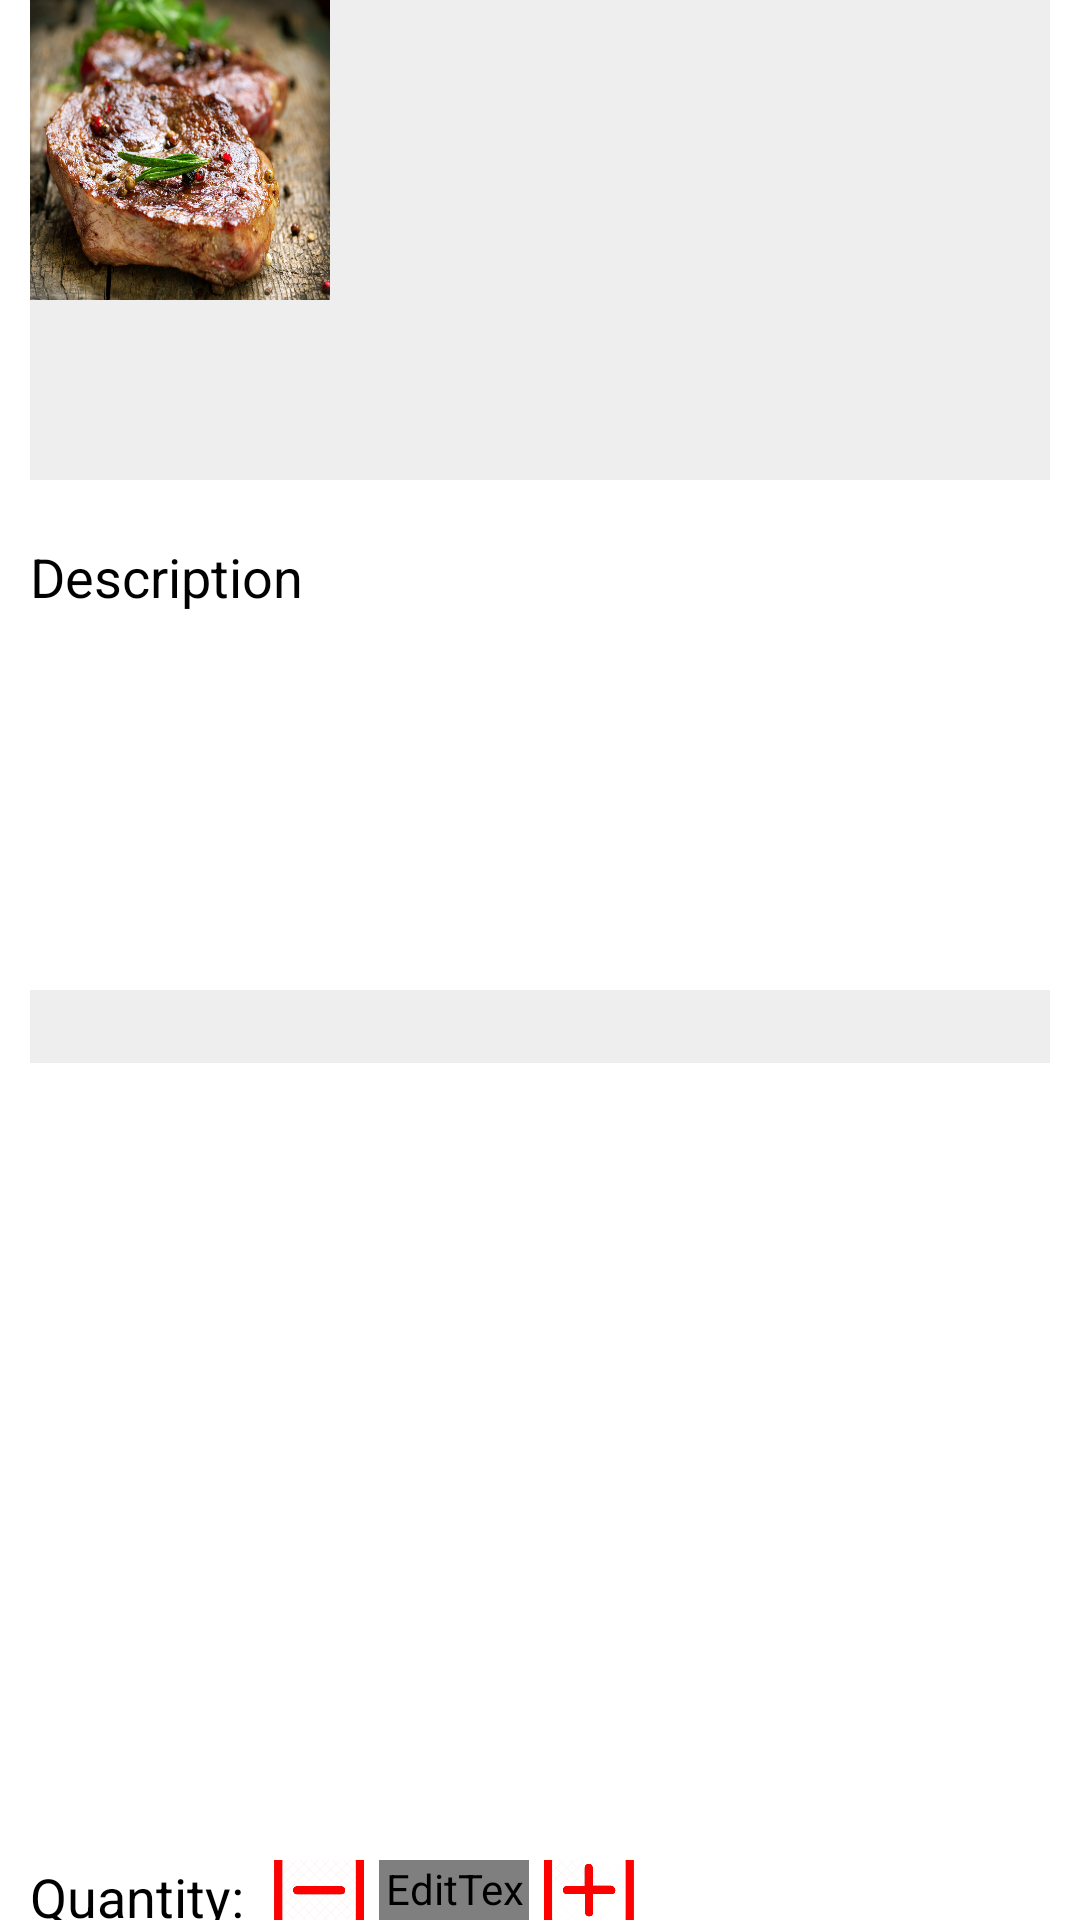

Locate icon controls on the screen. Image size 1080x1920, boxes as (x1, y1, x2, y2).
beefsteak: (30, 0, 330, 300)
